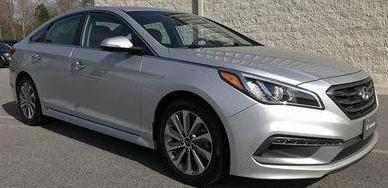Cars: (11, 9, 380, 186)
